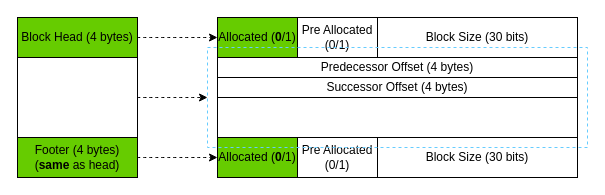
Image size: 605x195. Some labels were removed from this diagram. The shapes that lost their labels are listed below. From the top down, each one's centre as x and y in pixels, then its label:
At (77,97): "Block Payload".
At (397,117): "Padding".
